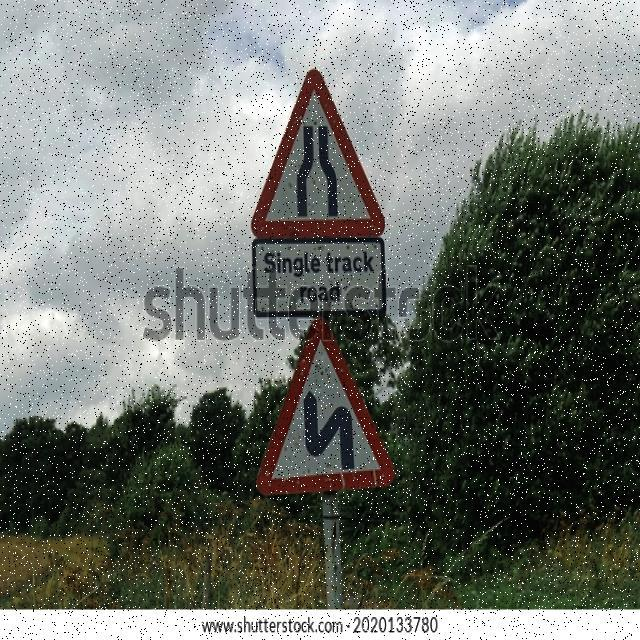Traffic sign: (246, 65, 408, 502)
